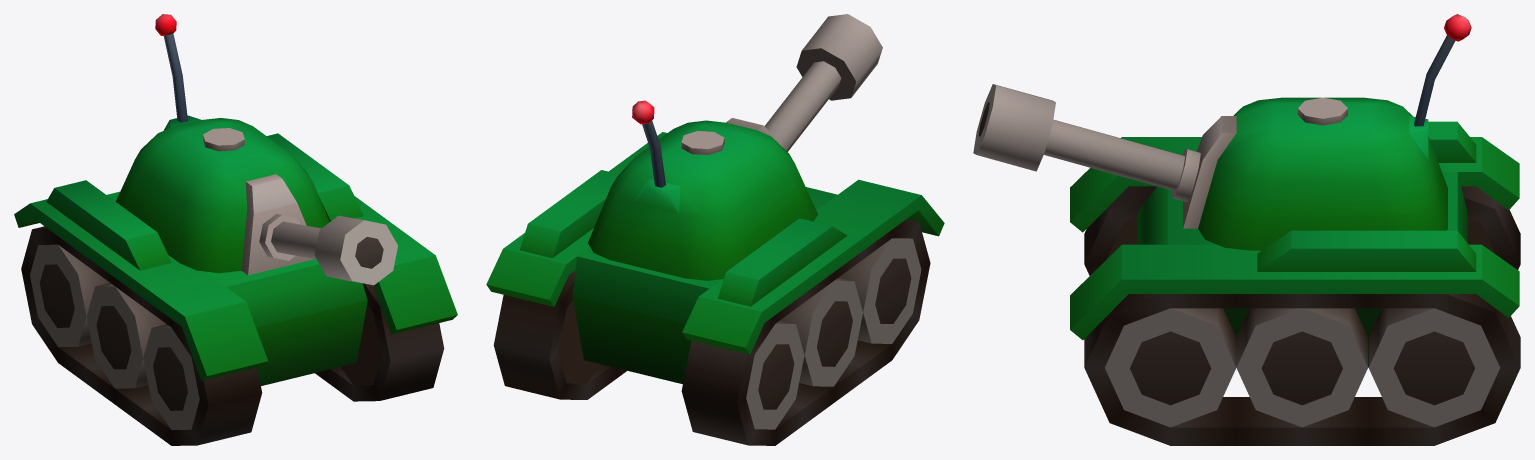
The model's file is tank.fbx.
The picture shows the model from 3 angles, left to right: view 1: azimuth 30°, elevation 25°; view 2: azimuth 150°, elevation 25°; view 3: azimuth 270°, elevation 25°; orthographic projection. The views are drawn at different scales.
Visible parts, largest first — view 1: tank; view 2: tank; view 3: tank.
Part boxes in pixels (<box>): tank: <box>14,14,457,445</box>; tank: <box>486,14,944,445</box>; tank: <box>973,14,1520,445</box>.
Bounding box in the file's own units: 12.06 × 14.31 × 19.56.
